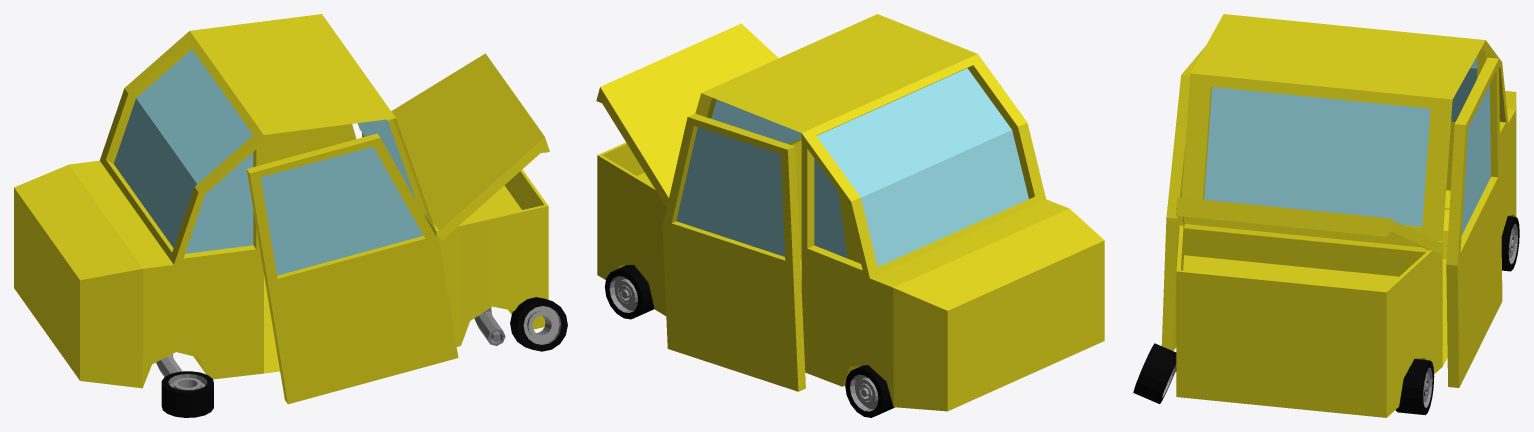
File: carcasse.fbx
3 renders of one model, left to right at view 1: azimuth 30°, elevation 25°; view 2: azimuth 150°, elevation 25°; view 3: azimuth 270°, elevation 25°, orthographic. The views are drawn at different scales.
Visible parts, largest first — view 1: Carcasse; view 2: Carcasse; view 3: Carcasse.
Boxes of the visible parts, x1,y1,x2,y2 form: Carcasse: (14, 14, 567, 417); Carcasse: (596, 14, 1104, 417); Carcasse: (1133, 14, 1519, 417).
Size of the model in its own units: 226 by 125 by 157.
